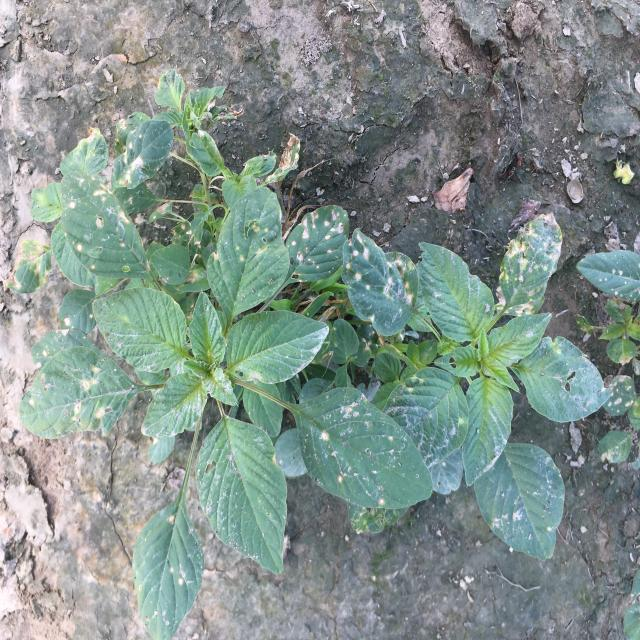PalmerAmaranth: (5, 68, 613, 640)
